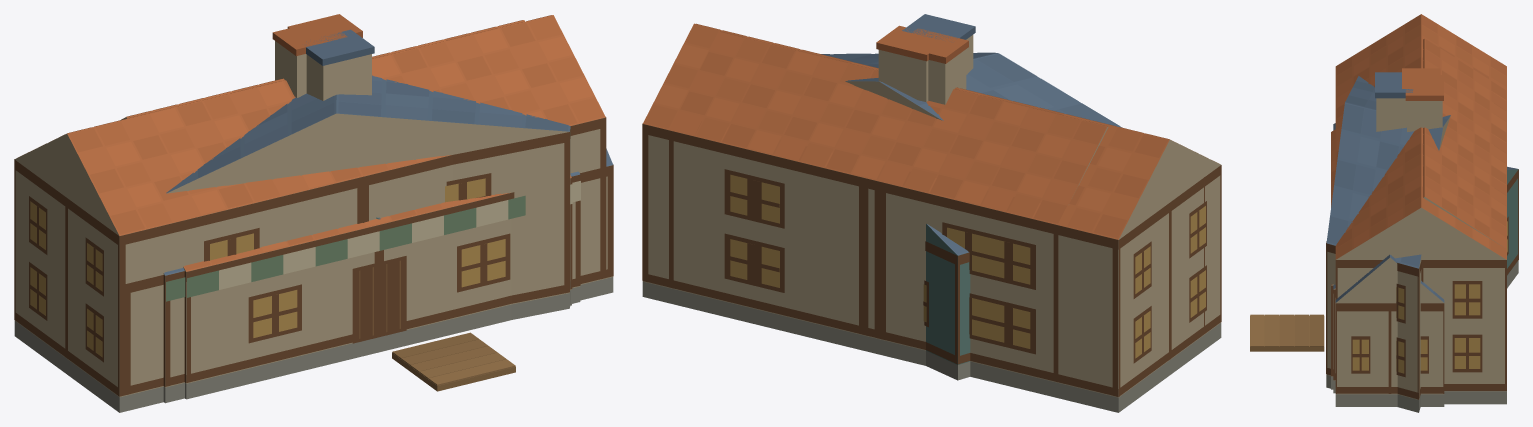
The model's file is alderwake_town_kit.glb.
3 views of the same model, side by side, from view 1: azimuth 30°, elevation 25°; view 2: azimuth 150°, elevation 25°; view 3: azimuth 270°, elevation 25° (orthographic). The views are drawn at different scales.
Visible parts, largest first — view 1: GEO-alderwake-hall, GEO-tess-general-goods, GEO-lantern-rest, GEO-dock-plank-module, GEO-reed-chandlery, GEO-mill-road-schoolhouse, GEO-mayor-vale-home; view 2: GEO-alderwake-hall, GEO-mayor-vale-home, GEO-lantern-rest, GEO-house-dockside; view 3: GEO-alderwake-hall, GEO-mayor-vale-home, GEO-lantern-rest, GEO-mill-road-schoolhouse, GEO-dock-plank-module, GEO-house-dockside, GEO-tess-general-goods, GEO-reed-chandlery.
Part boxes in pixels (bbox=[...]): GEO-alderwake-hall: bbox=[14, 15, 606, 412]; GEO-tess-general-goods: bbox=[183, 175, 572, 399]; GEO-lantern-rest: bbox=[166, 29, 570, 319]; GEO-dock-plank-module: bbox=[392, 332, 515, 391]; GEO-reed-chandlery: bbox=[163, 171, 580, 403]; GEO-mill-road-schoolhouse: bbox=[125, 148, 613, 411]; GEO-mayor-vale-home: bbox=[119, 14, 524, 120]; GEO-alderwake-hall: bbox=[642, 23, 1221, 412]; GEO-mayor-vale-home: bbox=[669, 25, 1108, 397]; GEO-lantern-rest: bbox=[821, 14, 1204, 333]; GEO-house-dockside: bbox=[923, 224, 970, 380]; GEO-alderwake-hall: bbox=[1335, 14, 1506, 404]; GEO-mayor-vale-home: bbox=[1405, 38, 1506, 248]; GEO-lantern-rest: bbox=[1326, 72, 1450, 412]; GEO-mill-road-schoolhouse: bbox=[1335, 254, 1444, 406]; GEO-dock-plank-module: bbox=[1250, 314, 1324, 351]; GEO-house-dockside: bbox=[1507, 166, 1518, 288]; GEO-tess-general-goods: bbox=[1331, 129, 1335, 389]; GEO-reed-chandlery: bbox=[1333, 123, 1335, 393].
Bounding box in the file's own units: 6.48 × 3.47 × 3.63.
